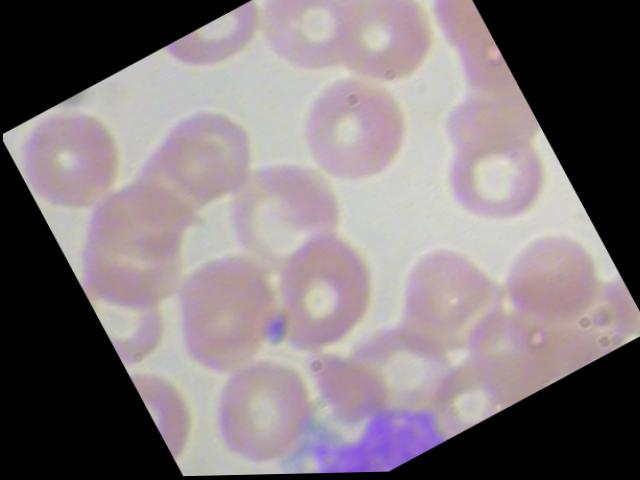Red Blood Cells: (240, 219, 393, 374), (280, 55, 431, 208), (2, 86, 145, 236), (421, 104, 567, 249), (474, 207, 620, 352), (187, 344, 333, 476), (312, 0, 450, 110), (242, 0, 381, 99), (155, 0, 283, 99)
White Blood Cells: (231, 329, 495, 475)
